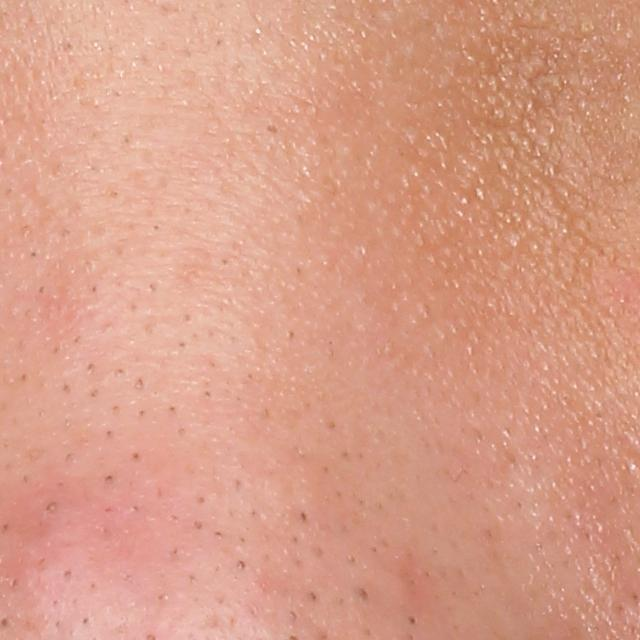comedo: (41, 497, 62, 516)
